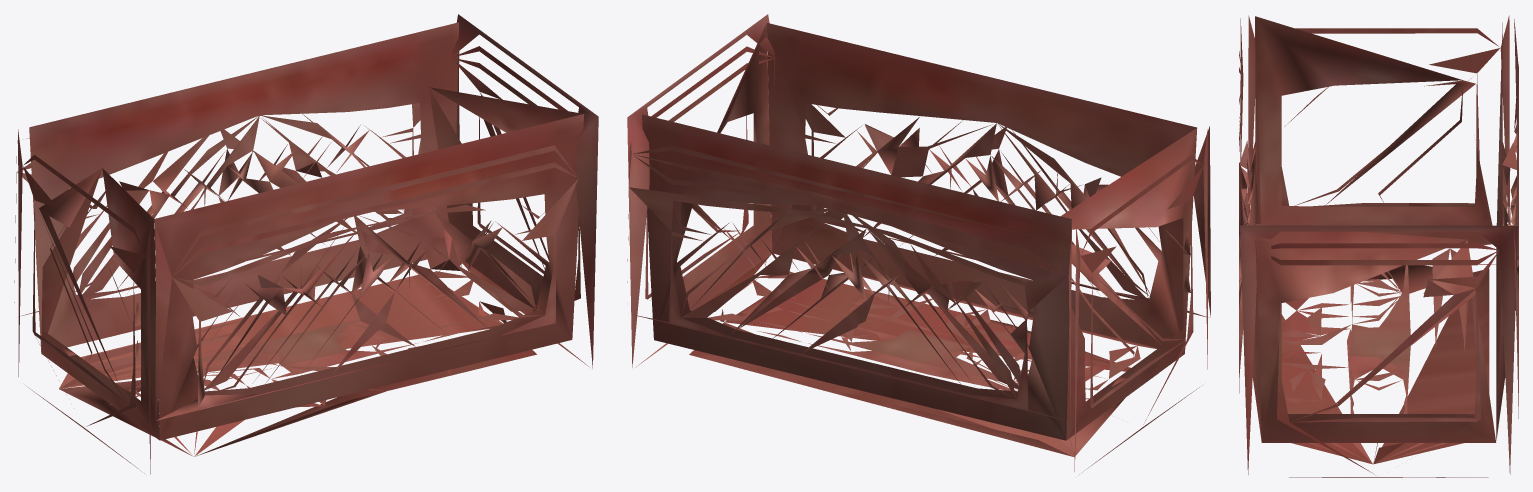
The model's file is crate_plastic_red_lod1.glb.
3 renders of one model, left to right at view 1: azimuth 30°, elevation 25°; view 2: azimuth 150°, elevation 25°; view 3: azimuth 270°, elevation 25°, orthographic.
Visible parts, largest first — view 1: crate_plastic_red.001; view 2: crate_plastic_red.001; view 3: crate_plastic_red.001.
Part boxes in pixels (bbox=[...]): crate_plastic_red.001: bbox=[14, 14, 598, 474]; crate_plastic_red.001: bbox=[627, 14, 1210, 474]; crate_plastic_red.001: bbox=[1239, 15, 1518, 477].
Bounding box in the file's own units: 0.4815 × 0.2645 × 0.265.
1 material, 1 textured.
